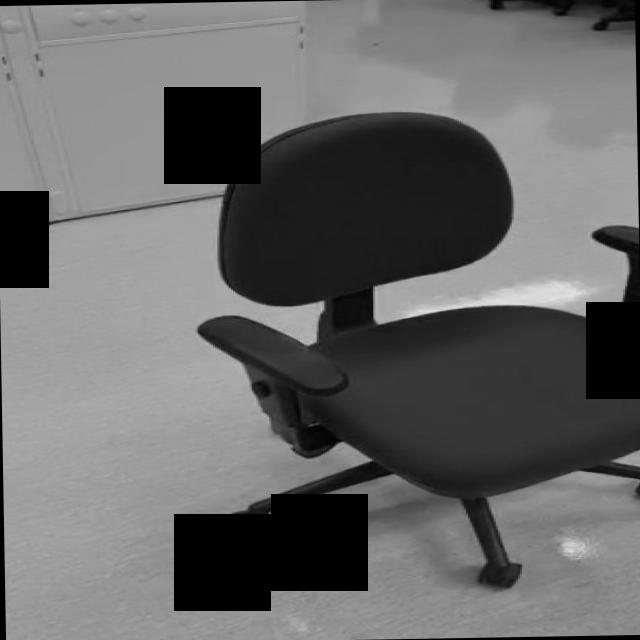cadeira-azul: (193, 106, 640, 593)
